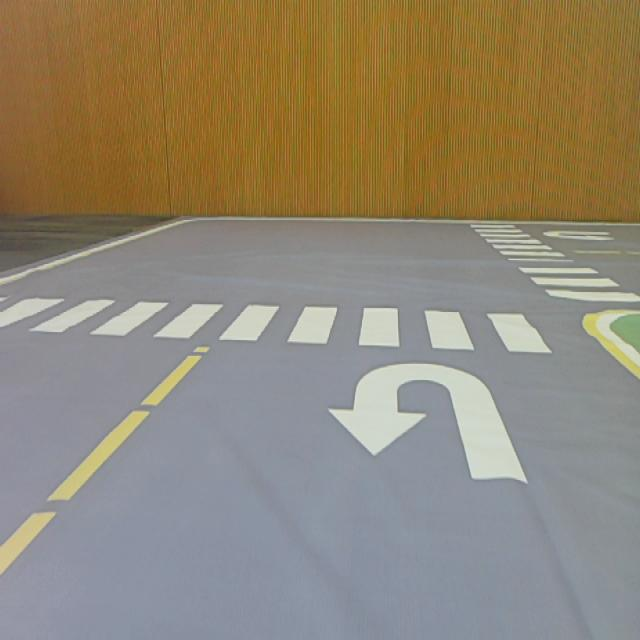left_lane: (0, 346, 211, 575)
right_lane: (581, 324, 640, 384)
